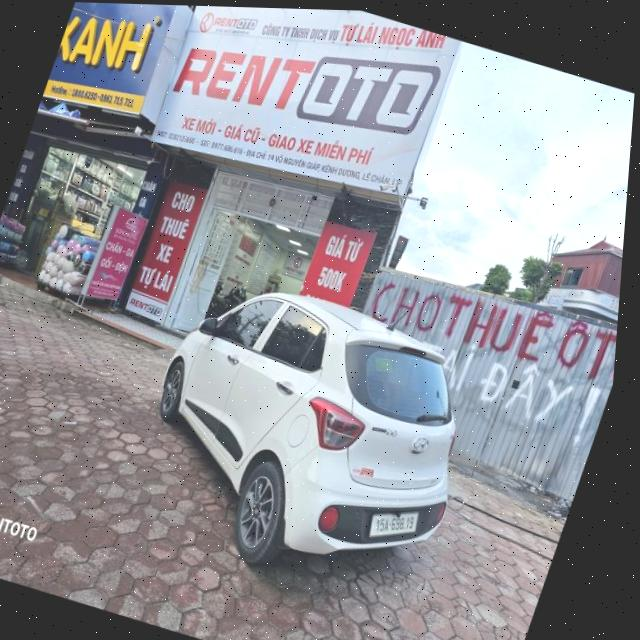car: (107, 261, 513, 610)
plate: (360, 496, 426, 553)
